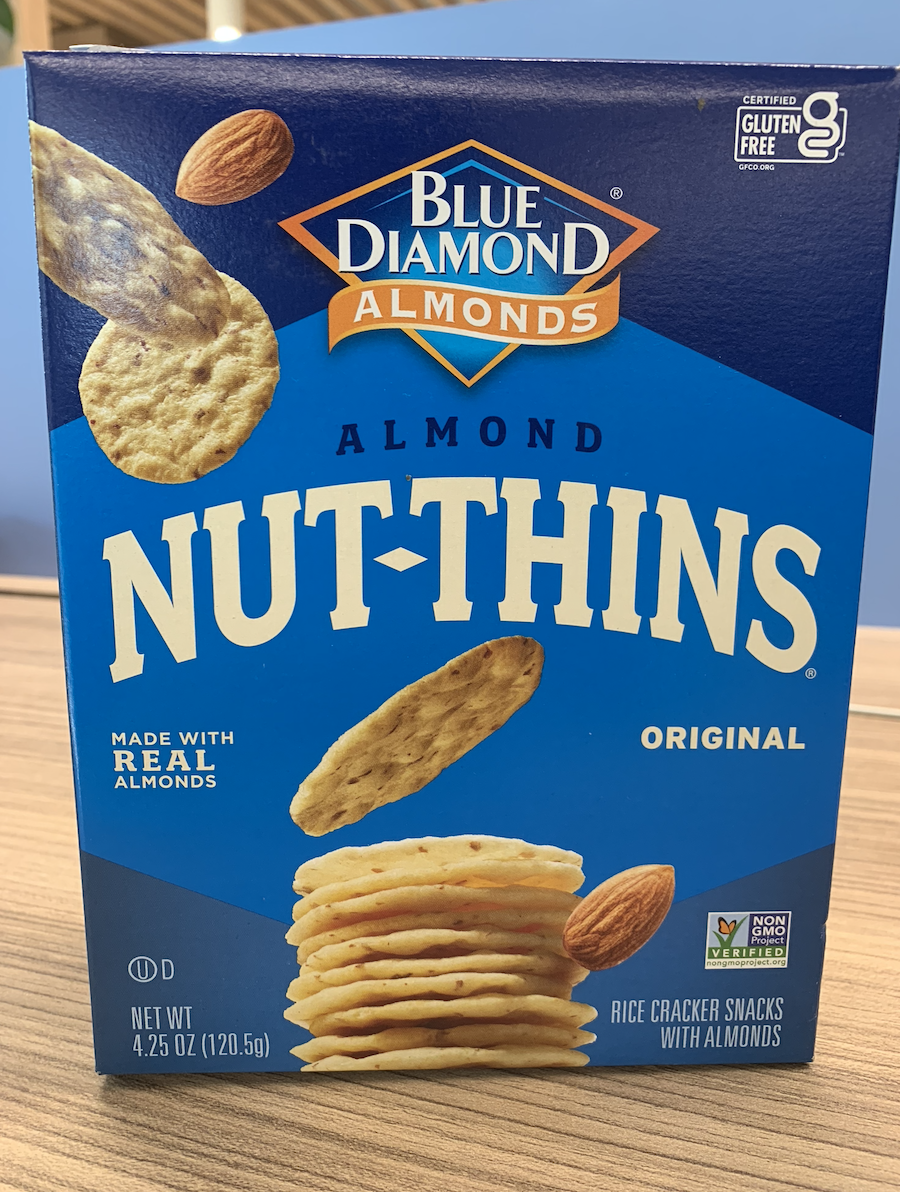crackers_150g: (101, 94, 813, 1063)
